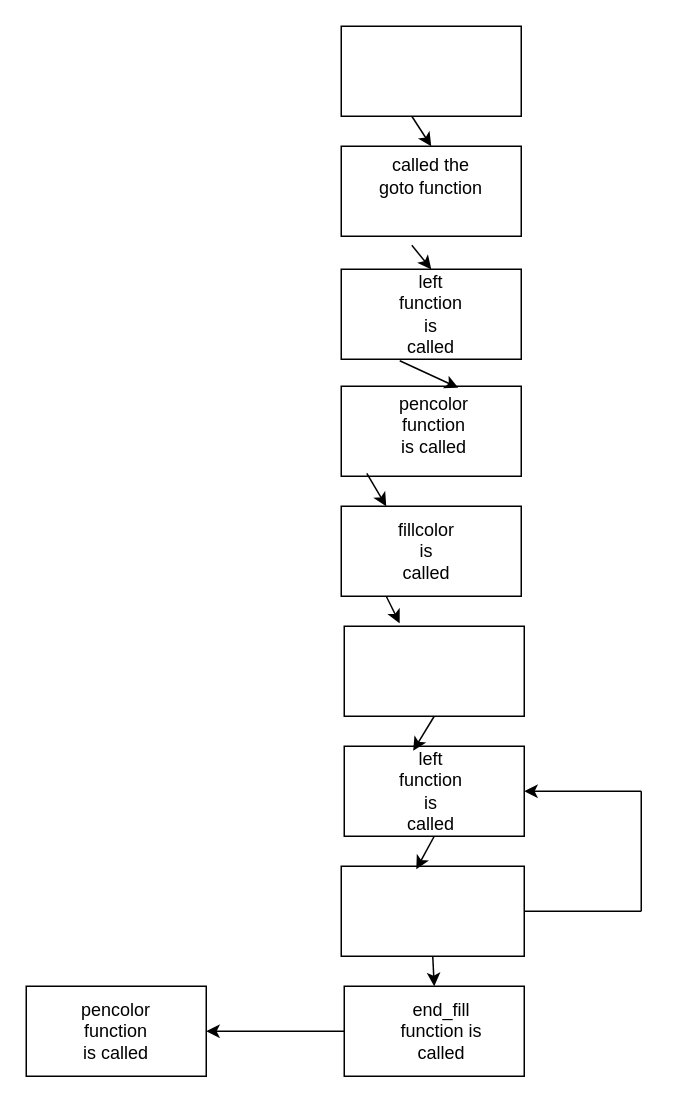
The diagram is 680 pixels wide and 1103 high, and some of its shapes have lost their labels. The centre of each missing label's shape, as x and y in pixels:
"begin_fill function is called" belongs at point 433,670.
"foward function is called" belongs at point 432,910.
"hideturtule function is called" belongs at point 430,70.
